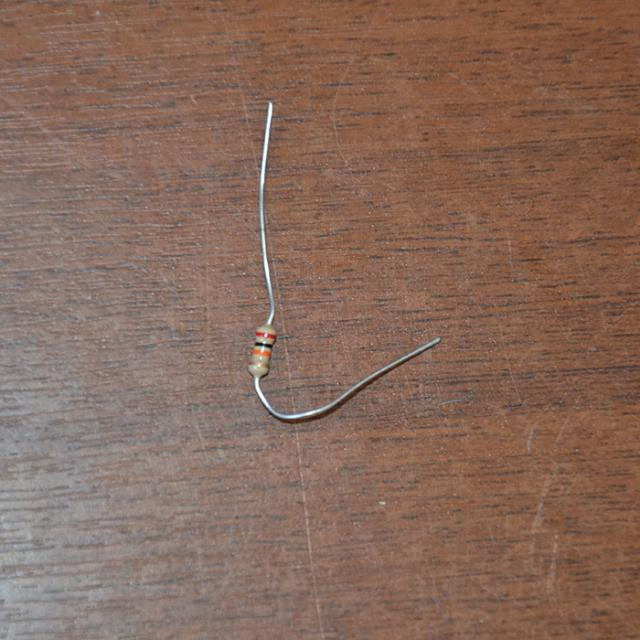black: (254, 340, 272, 347)
gold: (251, 360, 267, 368)
orange: (254, 349, 270, 357)
red: (256, 331, 275, 340)
resistor: (244, 323, 280, 381)
